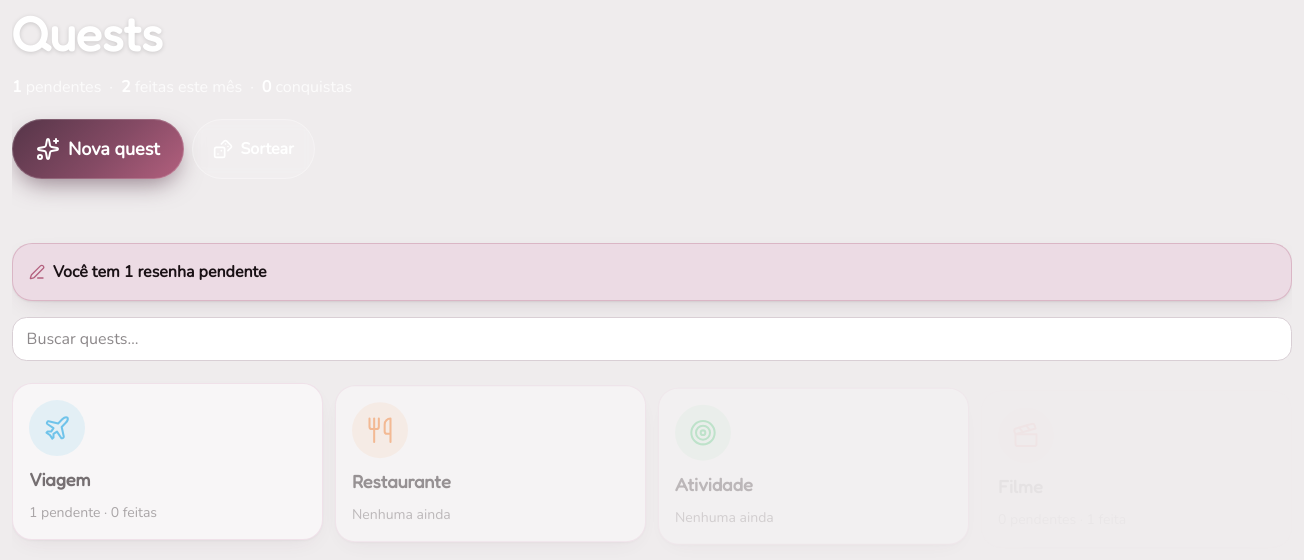
Test: searching replaces the grid with matches from every category, done ones included
This screenshot has width=1304, height=560.
Type "matrix" into the search field labelled "Buscar quests". click: (652, 339)
box: [12,317,1292,361]
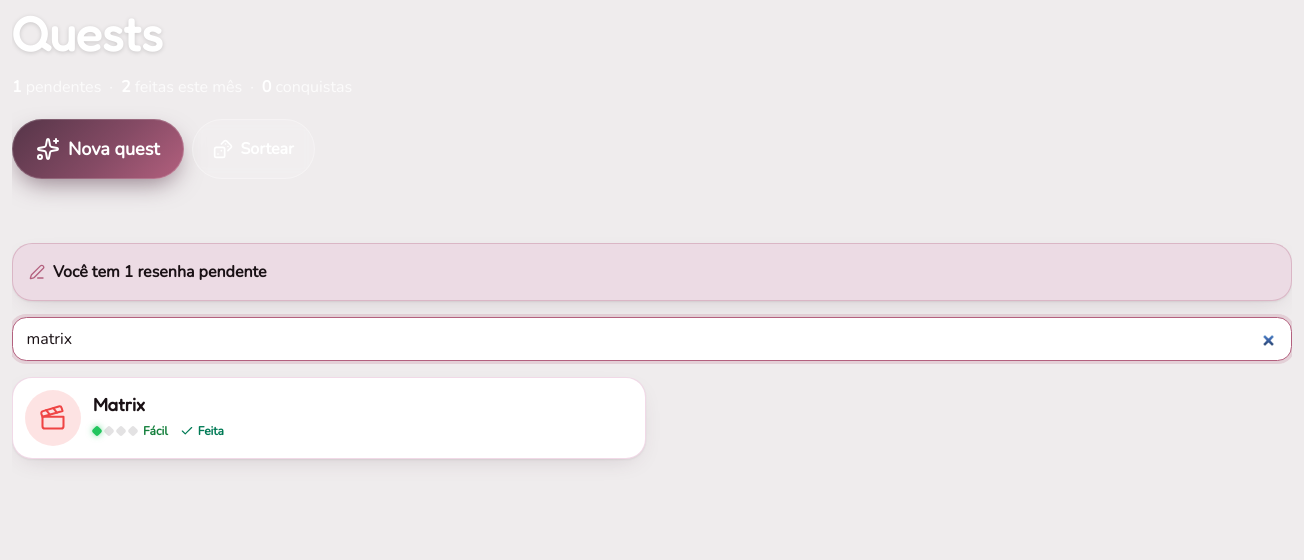
Now the text "Matrix" is shown, box [93,393,145,415]
Now the link "Viagem" is gone
